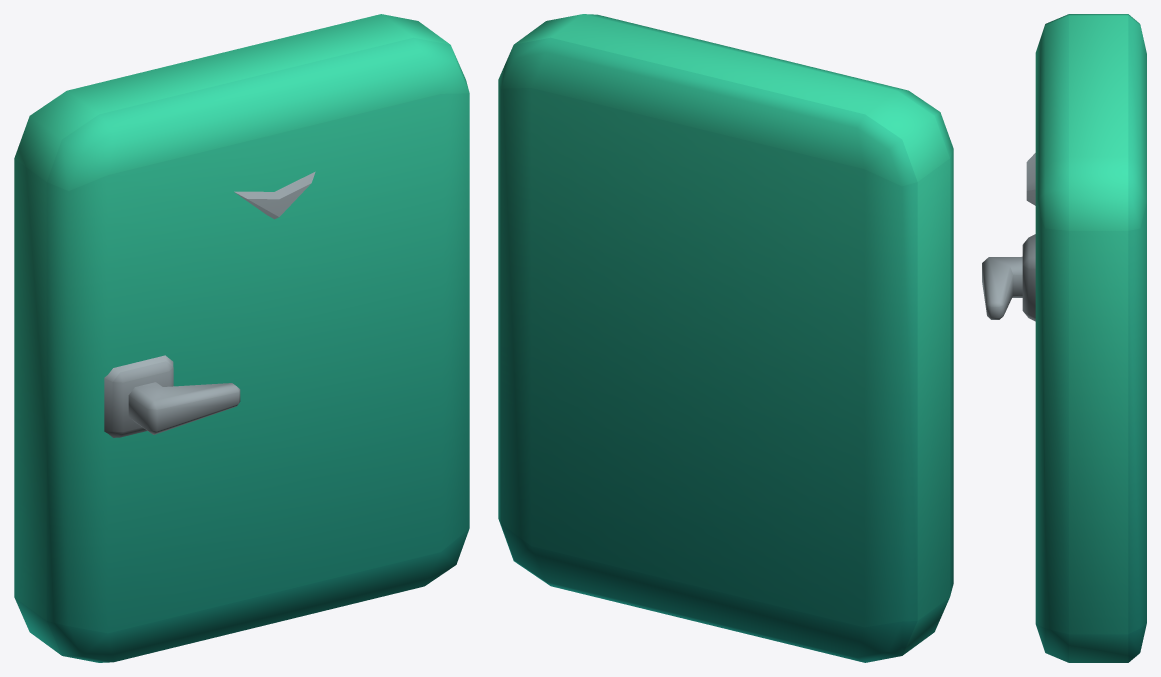
The model's file is fridge_B_door.obj.
3 renders of one model, left to right at view 1: azimuth 30°, elevation 25°; view 2: azimuth 150°, elevation 25°; view 3: azimuth 270°, elevation 25°, orthographic. The views are drawn at different scales.
Visible parts, largest first — view 1: fridge_B_door_Cube.565; view 2: fridge_B_door_Cube.565; view 3: fridge_B_door_Cube.565.
Part boxes in pixels (x1=…): fridge_B_door_Cube.565: x1=14, y1=14, x2=469, y2=662; fridge_B_door_Cube.565: x1=498, y1=14, x2=953, y2=662; fridge_B_door_Cube.565: x1=982, y1=14, x2=1146, y2=662.
Size of the model in its own units: 2 by 2.5 by 0.74.
1 material, 1 textured.
